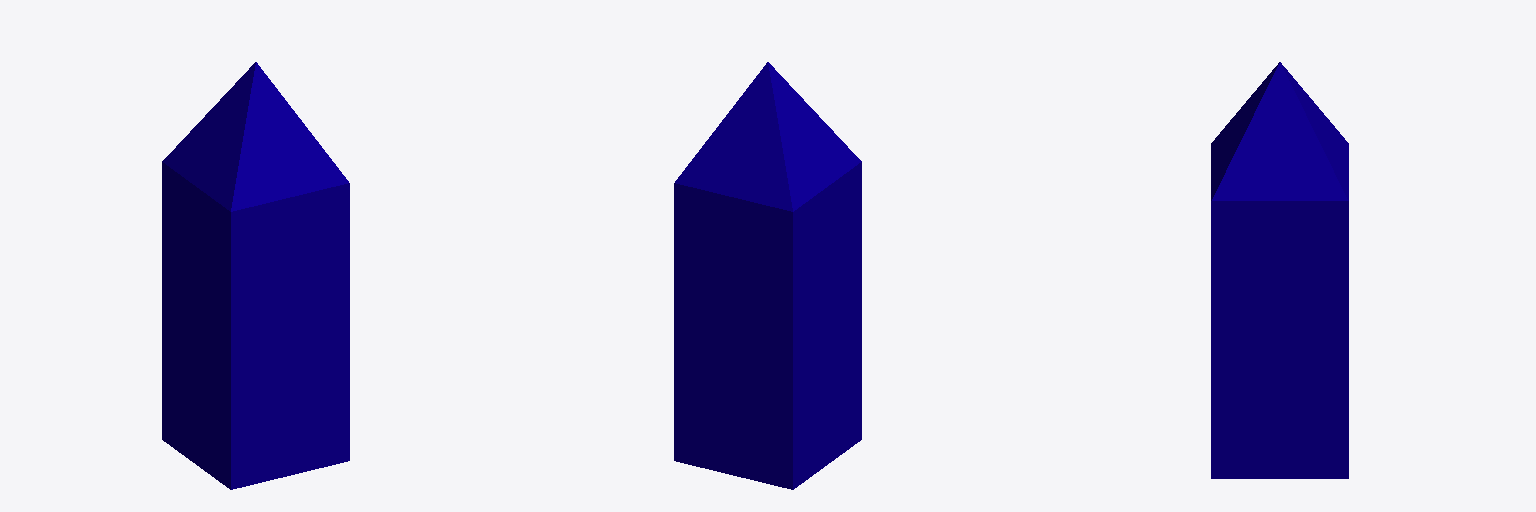
Rendered from arrow_blue.obj.
The picture shows the model from 3 angles: view 1: azimuth 30°, elevation 25°; view 2: azimuth 150°, elevation 25°; view 3: azimuth 270°, elevation 25°; orthographic projection.
Visible parts, largest first — view 1: Cube; view 2: Cube; view 3: Cube.
Part boxes in pixels (bbox=[...]): Cube: bbox=[162, 62, 349, 489]; Cube: bbox=[674, 62, 861, 489]; Cube: bbox=[1211, 62, 1348, 478].
Bounding box in the file's own units: 0.3066 × 0.9575 × 0.3066.